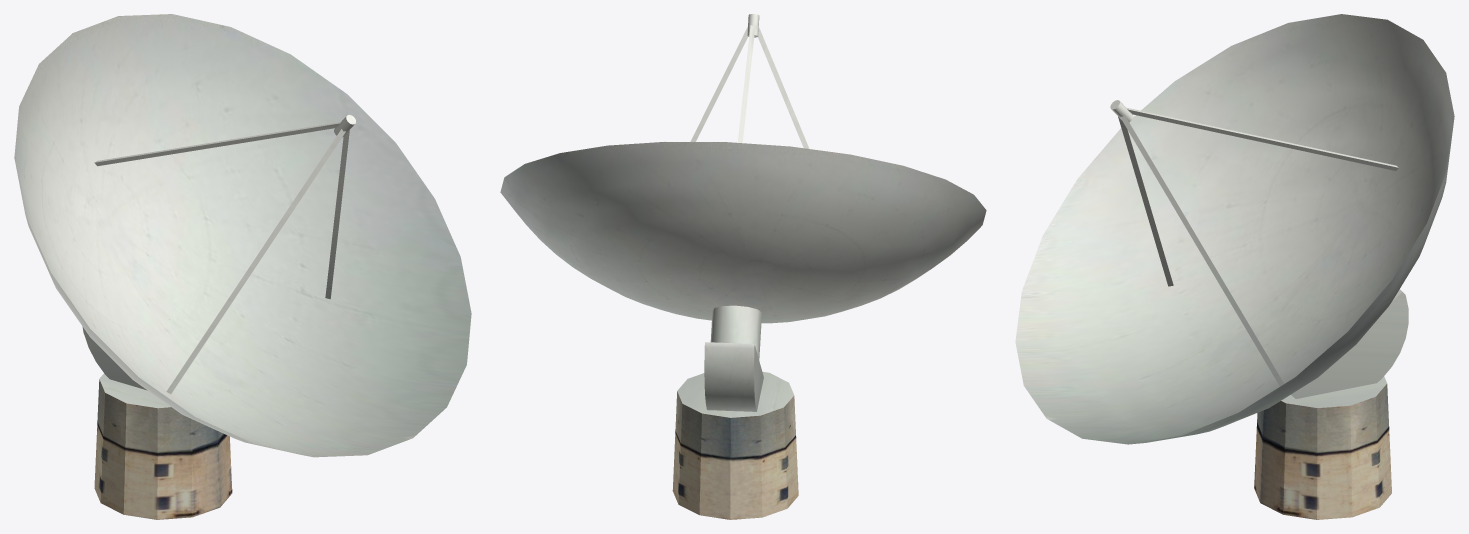
The model's file is dish_real2.glb.
3 renders of one model, left to right at view 1: azimuth 30°, elevation 25°; view 2: azimuth 150°, elevation 25°; view 3: azimuth 270°, elevation 25°, orthographic. The views are drawn at different scales.
Parts seen in each view (by area): view 1: dish_real2; view 2: dish_real2; view 3: dish_real2.
Boxes of the visible parts, x1=… form: dish_real2: x1=14, y1=14, x2=471, y2=519; dish_real2: x1=500, y1=14, x2=986, y2=519; dish_real2: x1=1015, y1=14, x2=1454, y2=519.
Bounding box in the file's own units: 1.65 × 1.53 × 1.41.
15 materials, 15 textured.
